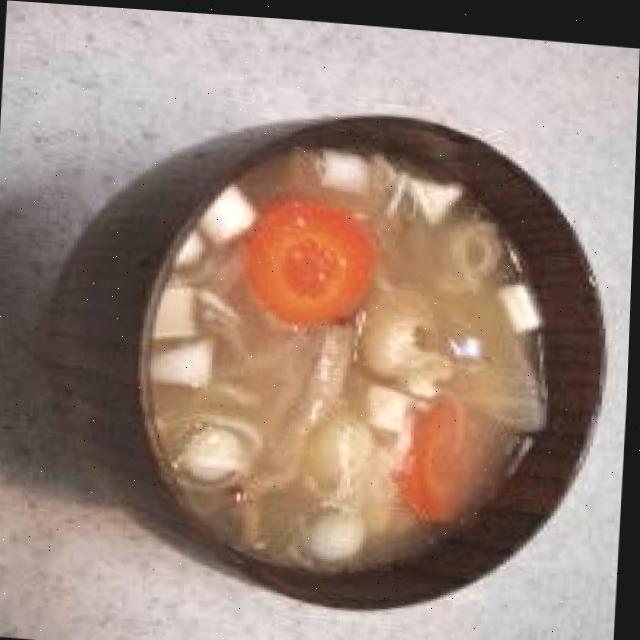蔬菜料理: (29, 14, 640, 629)
